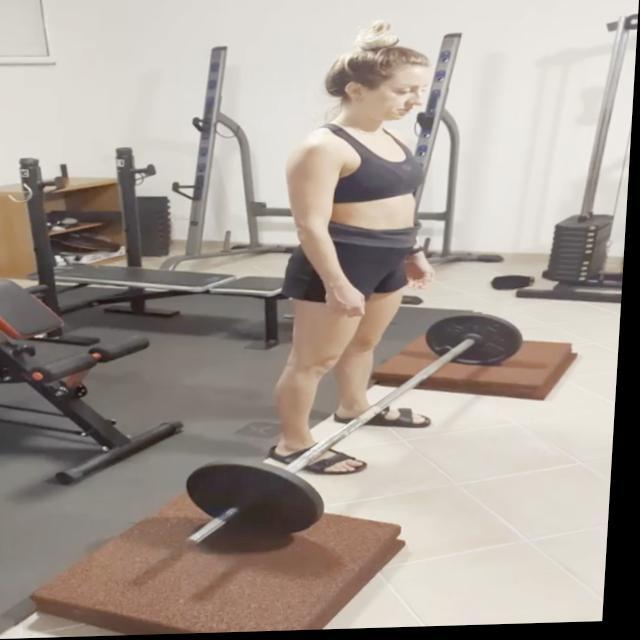barbell: (180, 458, 338, 558)
